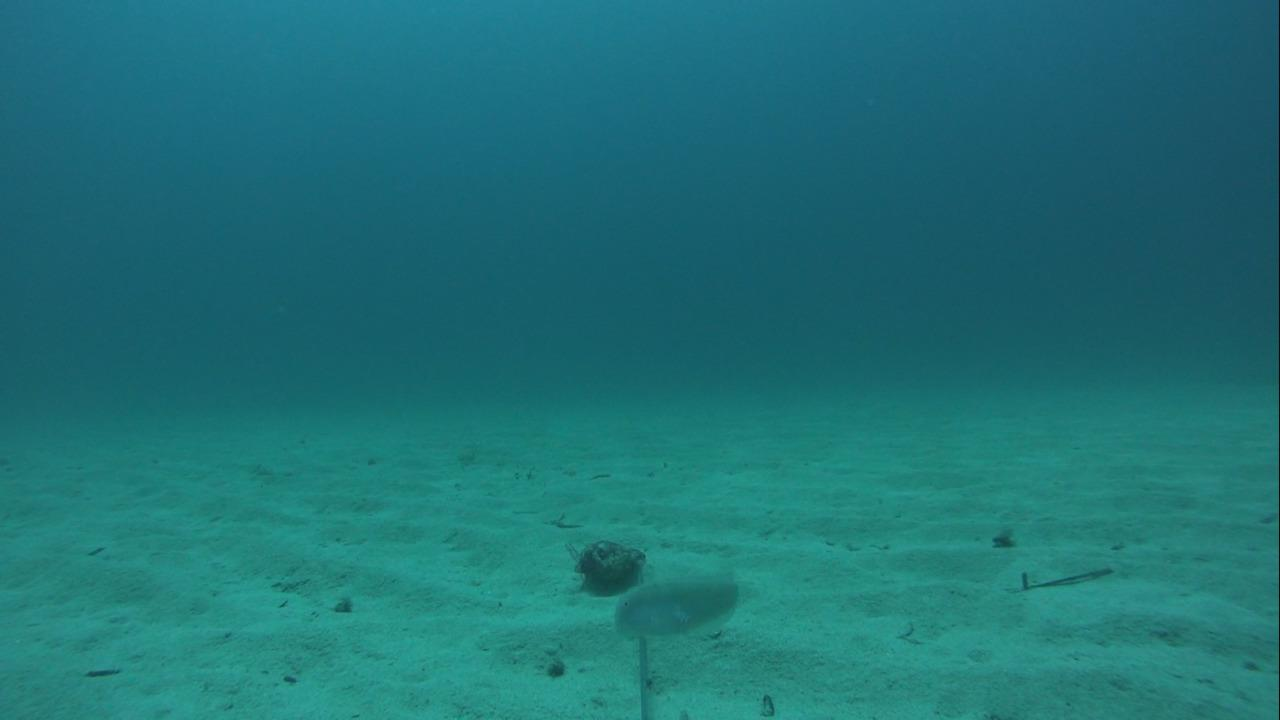raor: (612, 566, 745, 643)
